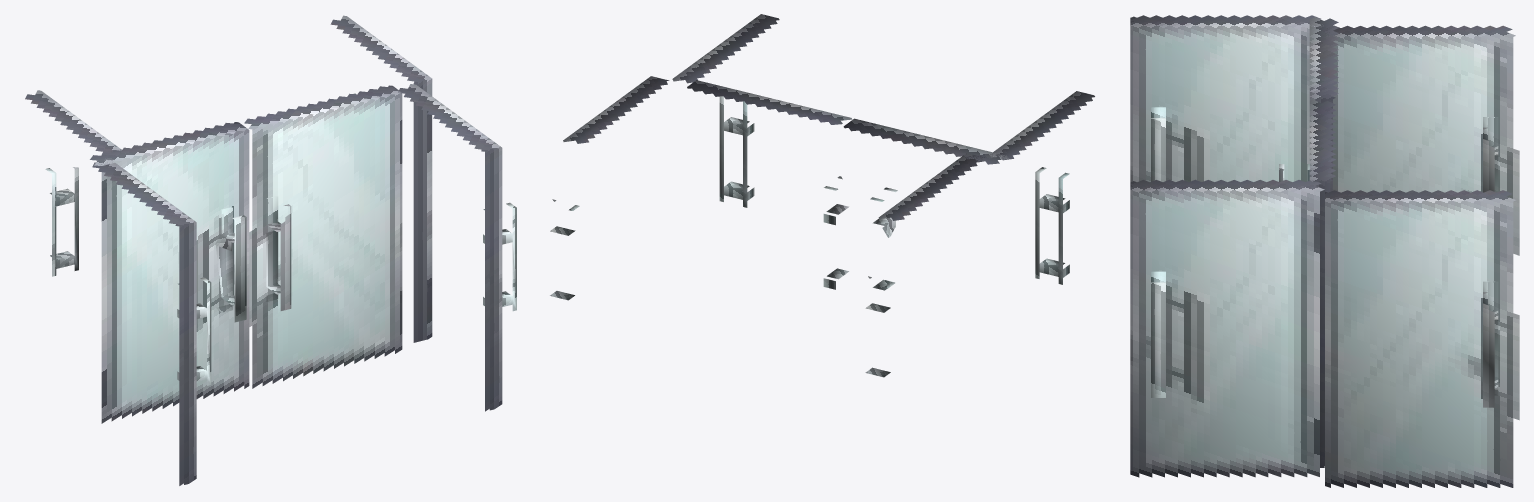
The model's file is ThinFramedGlassEntrance.glb.
3 views of the same model, side by side, from view 1: azimuth 30°, elevation 25°; view 2: azimuth 150°, elevation 25°; view 3: azimuth 270°, elevation 25° (orthographic). The views are drawn at different scales.
Parts seen in each view (by area): view 1: right_1 (×2), left_1 (×2), right, left; view 2: left_1 (×2), right_1 (×2), left, right; view 3: right_1 (×2), right, left_1 (×2), left.
Boxes of the visible parts, left/top/right/bottom form: right_1 (×2): left=244, top=15, right=432, bottom=388; left_1 (×2): left=25, top=90, right=249, bottom=423; right: left=398, top=84, right=516, bottom=411; left: left=92, top=158, right=211, bottom=485; left_1 (×2): left=843, top=118, right=1008, bottom=377; right_1 (×2): left=550, top=76, right=852, bottom=300; left: left=988, top=91, right=1094, bottom=284; right: left=672, top=14, right=779, bottom=207; right_1 (×2): left=1309, top=99, right=1519, bottom=487; right: left=1130, top=179, right=1324, bottom=477; left_1 (×2): left=1279, top=17, right=1519, bottom=255; left: left=1130, top=15, right=1320, bottom=182.
Bounding box in the file's own units: 2.44 × 1.62 × 2.
1 material, 1 textured.
